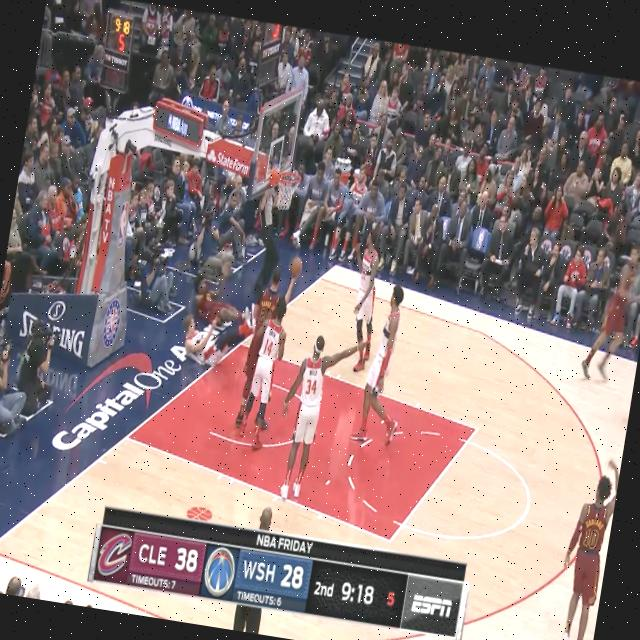foul: (173, 262, 260, 384)
no foul: (271, 306, 368, 507), (233, 268, 300, 446)
